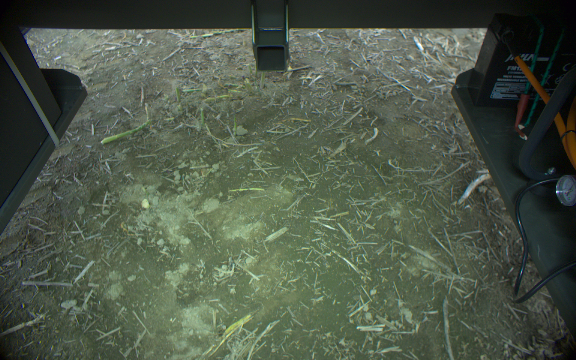aspa: (101, 118, 154, 144), (256, 70, 268, 90), (239, 76, 253, 93), (198, 104, 207, 127), (172, 85, 180, 103)
